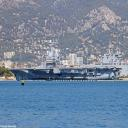Portanaves: (7, 32, 127, 83)
